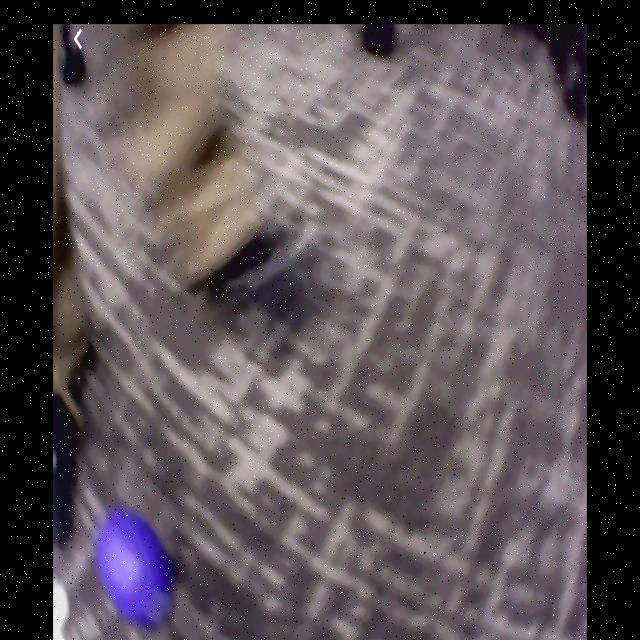ball: (96, 513, 170, 629)
